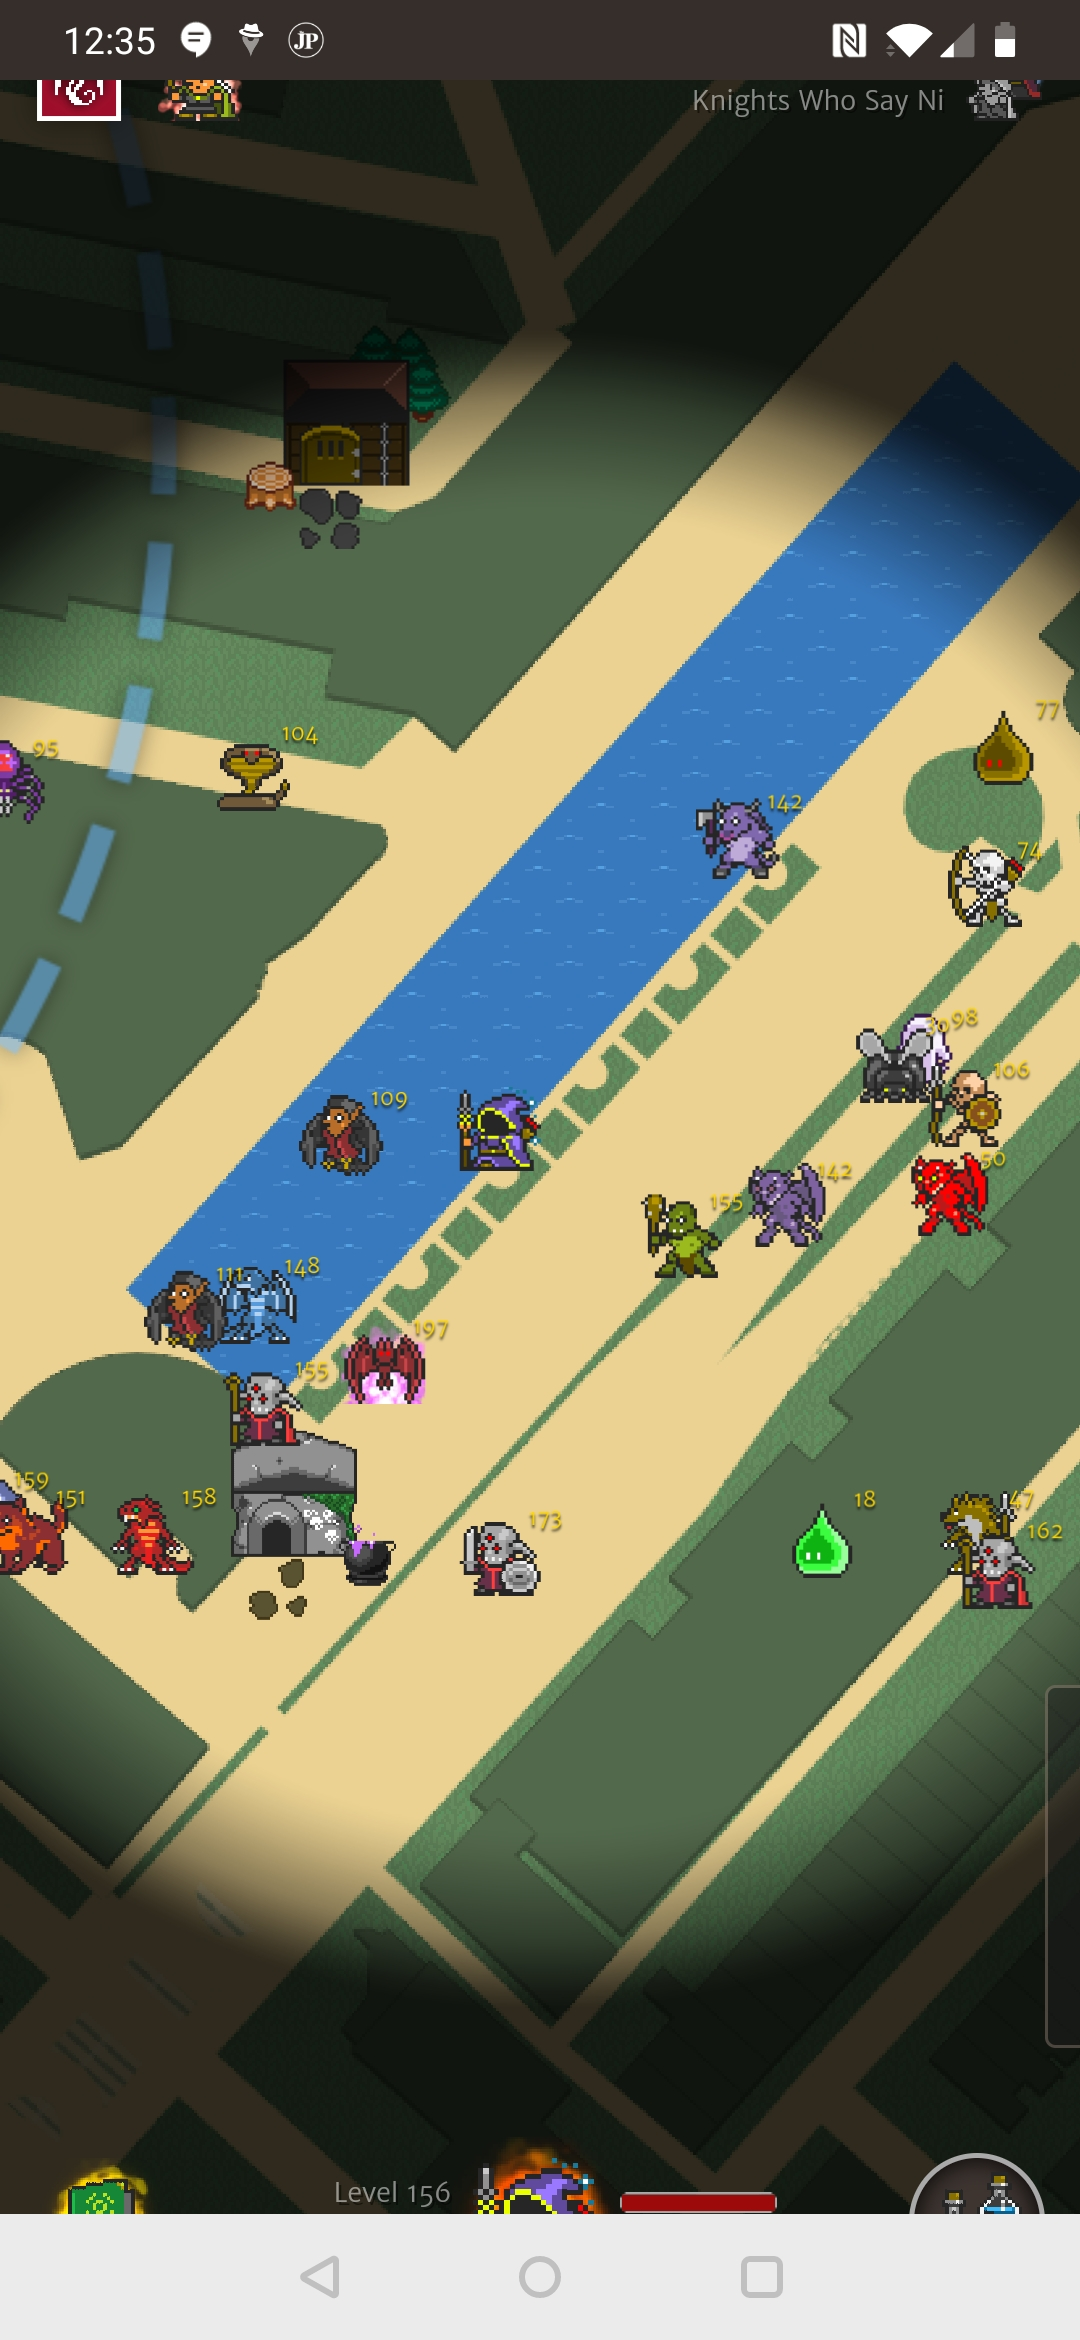monster: (912, 834, 1060, 954), (684, 782, 805, 906), (198, 720, 329, 830), (298, 1082, 415, 1192), (746, 1158, 870, 1258), (219, 1358, 332, 1465), (774, 1482, 888, 1585), (912, 1140, 1019, 1247), (460, 1502, 563, 1613), (960, 689, 1070, 789), (343, 1320, 453, 1416), (632, 1189, 750, 1278), (1, 1489, 105, 1587), (932, 1489, 1036, 1585), (967, 1520, 1060, 1627), (143, 1268, 239, 1351), (129, 1492, 219, 1575)
player: (450, 1082, 543, 1192)
